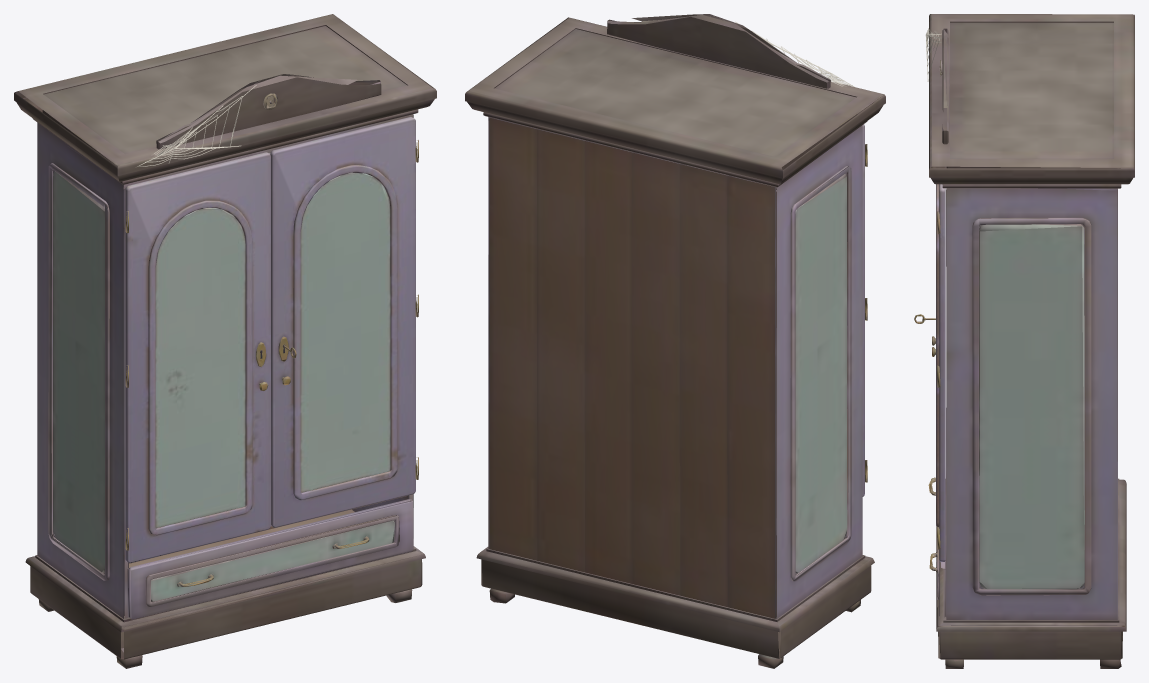
The model's file is old-wardrobe.glb.
3 views of the same model, side by side, from view 1: azimuth 30°, elevation 25°; view 2: azimuth 150°, elevation 25°; view 3: azimuth 270°, elevation 25° (orthographic).
Visible parts, largest first — view 1: old-wardrobe_body, old-wardrobe_door_left, old-wardrobe_door_right, old-wardrobe_web; view 2: old-wardrobe_body, old-wardrobe_door_left; view 3: old-wardrobe_body, old-wardrobe_door_right.
Part boxes in pixels (left/top/right/bottom): old-wardrobe_body: left=14, top=14, right=436, bottom=668; old-wardrobe_door_left: left=125, top=152, right=270, bottom=563; old-wardrobe_door_right: left=270, top=117, right=415, bottom=527; old-wardrobe_web: left=137, top=85, right=256, bottom=166; old-wardrobe_body: left=465, top=14, right=885, bottom=668; old-wardrobe_door_left: left=862, top=124, right=864, bottom=496; old-wardrobe_body: left=928, top=14, right=1134, bottom=668; old-wardrobe_door_right: left=914, top=184, right=945, bottom=561.
Bounding box in the file's own units: 1.23 × 2.06 × 0.7426.
Materials: 5 (3 with a texture image).
